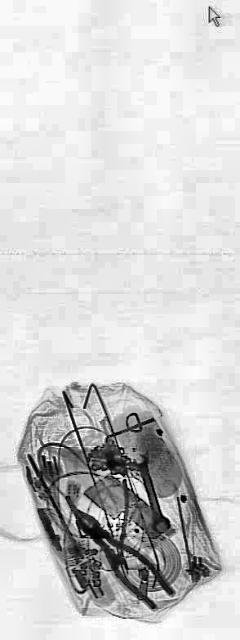Pliers: (63, 427, 142, 619), (72, 489, 174, 626)
Wrench: (130, 439, 170, 546)
